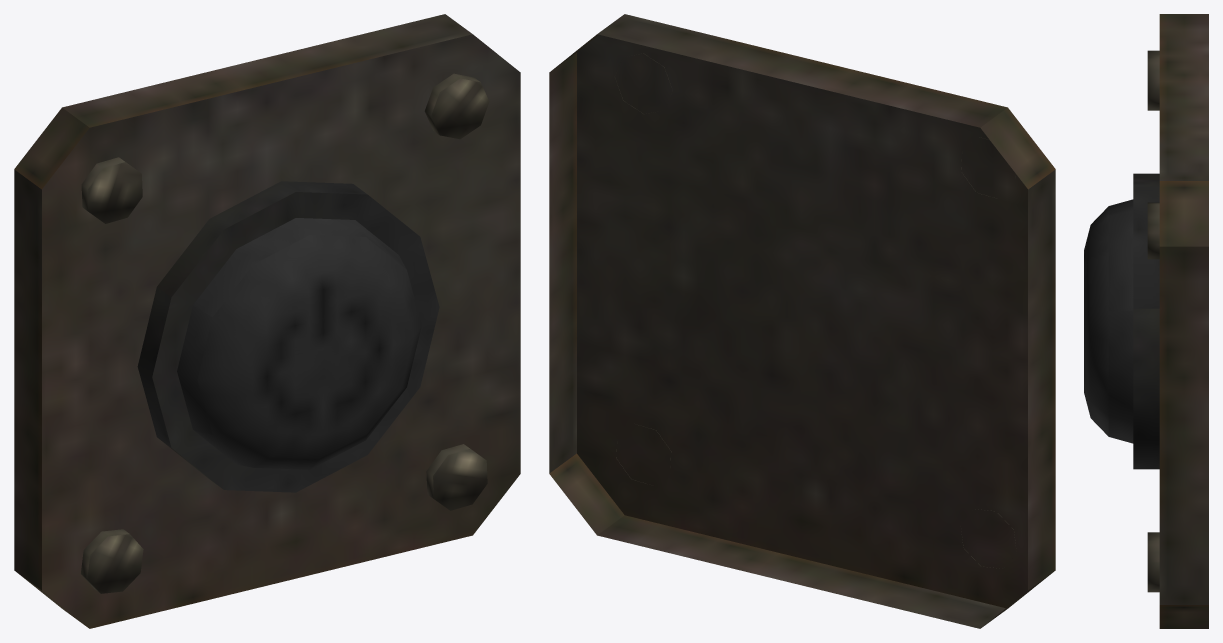
File: button_etx_black_1.obj
3 views of the same model, side by side, from view 1: azimuth 30°, elevation 25°; view 2: azimuth 150°, elevation 25°; view 3: azimuth 270°, elevation 25° (orthographic). The views are drawn at different scales.
Visible parts, largest first — view 1: button_etx_black_1, button_etx_black_1_child; view 2: button_etx_black_1; view 3: button_etx_black_1, button_etx_black_1_child.
Part boxes in pixels (x1,y1,x2,y2): button_etx_black_1: [14, 14, 520, 628]; button_etx_black_1_child: [177, 218, 421, 469]; button_etx_black_1: [549, 14, 1055, 628]; button_etx_black_1: [1133, 14, 1208, 628]; button_etx_black_1_child: [1084, 199, 1133, 443].
Size of the model in its own units: 0.144 by 0.144 by 0.0364.
